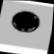correct: (8, 7, 42, 35)
